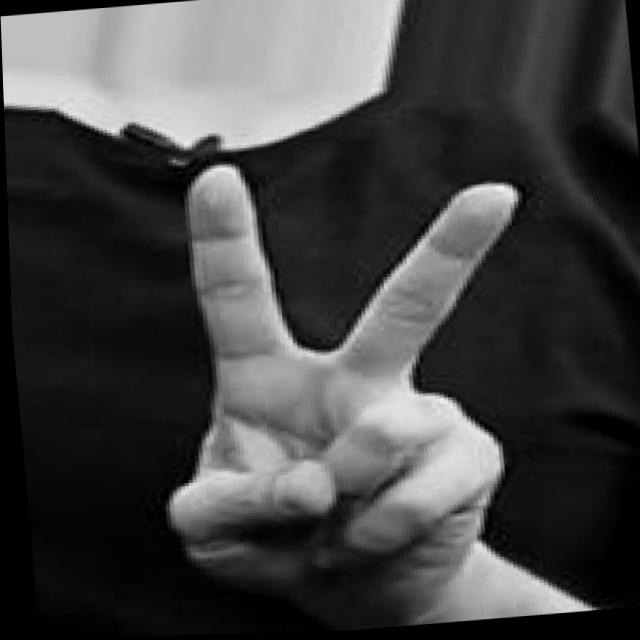V: (132, 132, 566, 634)
